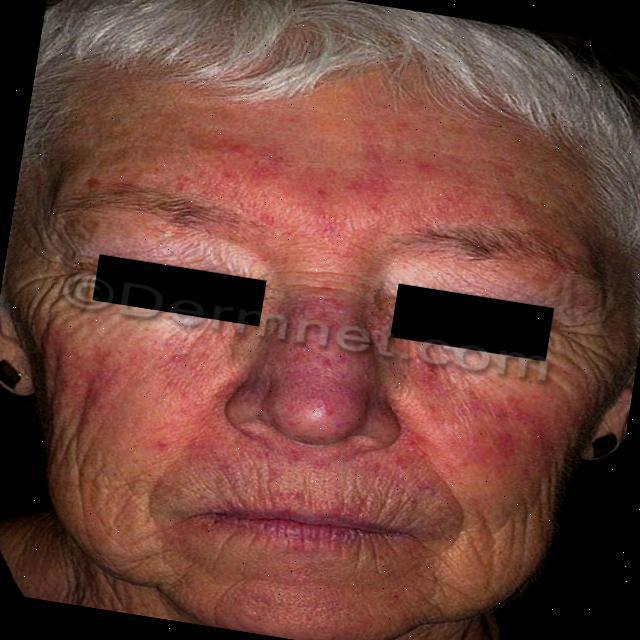skinredness: (26, 96, 640, 612)
